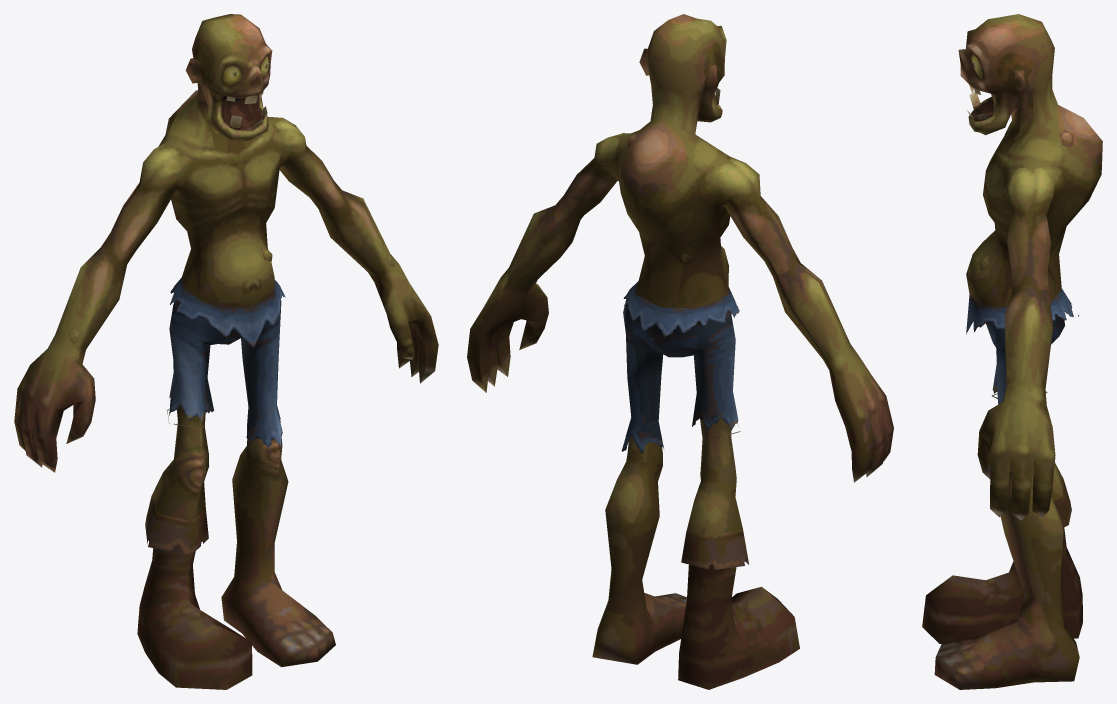
File: zombie_thin_57e76e02.glb
3 views of the same model, side by side, from view 1: azimuth 30°, elevation 25°; view 2: azimuth 150°, elevation 25°; view 3: azimuth 270°, elevation 25° (orthographic).
Bounding box in the file's own units: 1.72 × 2.57 × 0.6679.
Materials: 1 (1 with a texture image).
